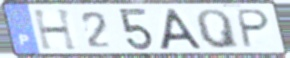2: (81, 10, 113, 49)
5: (116, 7, 155, 52)
A: (158, 7, 205, 51)
H: (31, 8, 81, 52)
P: (236, 8, 273, 50)
Q: (194, 8, 242, 51)
